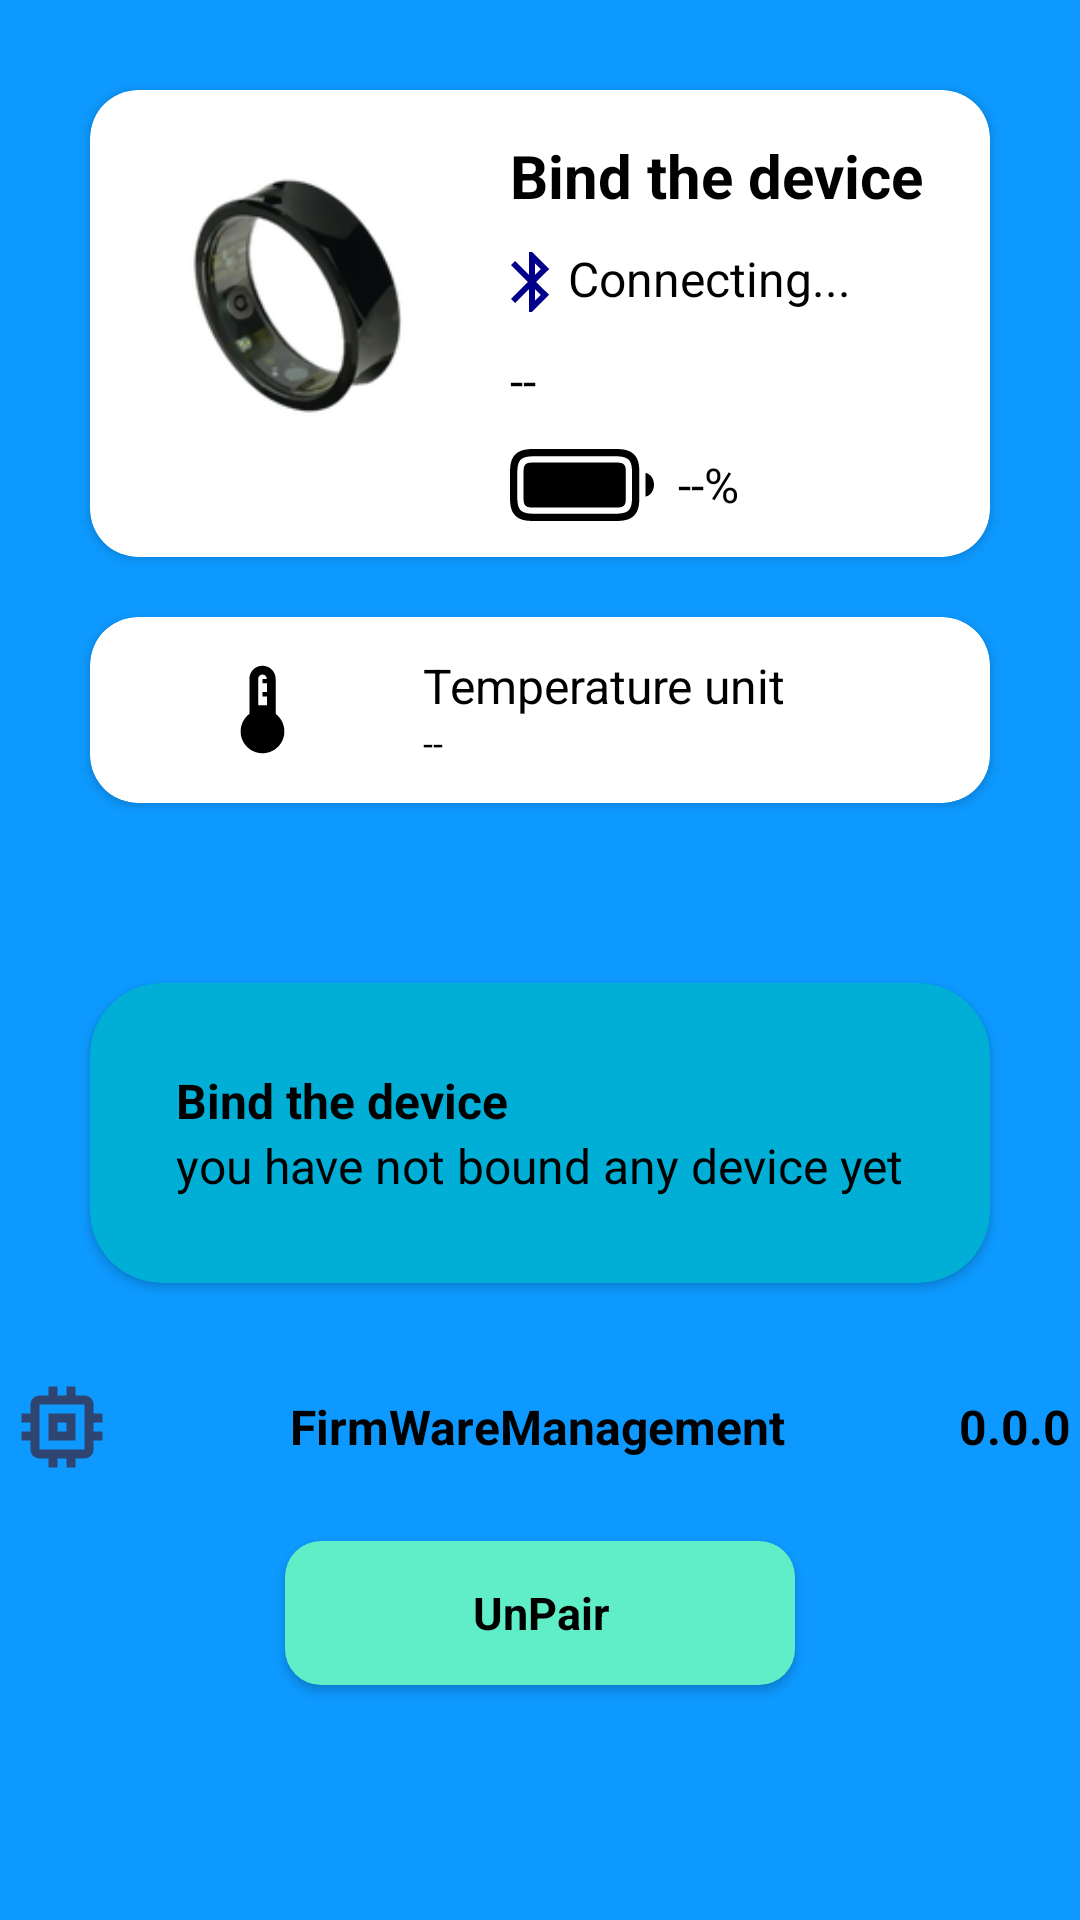

Named icons in this screenshot (1080×1920) and their bounding boxes, (x1, y1, x2, y2):
battery bar: (510, 449, 654, 521)
device thermostat: (240, 665, 285, 754)
memory: (21, 1386, 103, 1468)
smart ring: (193, 179, 401, 413)
